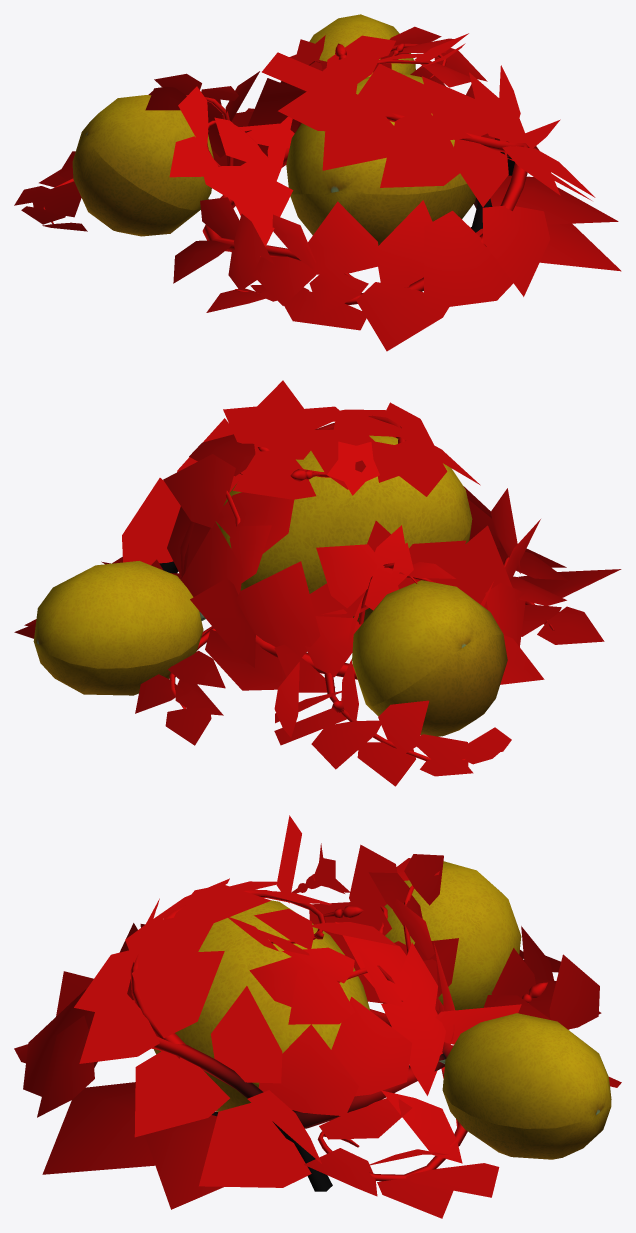
Rendered from SM_Farm_MelonFruits_03.fbx.
The picture shows the model from 3 angles, top to bottom: view 1: azimuth 30°, elevation 25°; view 2: azimuth 150°, elevation 25°; view 3: azimuth 270°, elevation 25°; orthographic projection. The views are drawn at different scales.
Visible parts, largest first — view 1: SM_Farm_MelonFruits_03_LOD0; view 2: SM_Farm_MelonFruits_03_LOD0; view 3: SM_Farm_MelonFruits_03_LOD0.
Boxes of the visible parts, x1,y1,x2,y2 form: SM_Farm_MelonFruits_03_LOD0: (14,14,621,351); SM_Farm_MelonFruits_03_LOD0: (14,380,621,786); SM_Farm_MelonFruits_03_LOD0: (14,815,621,1218).
Size of the model in its own units: 134 by 60.21 by 133.
